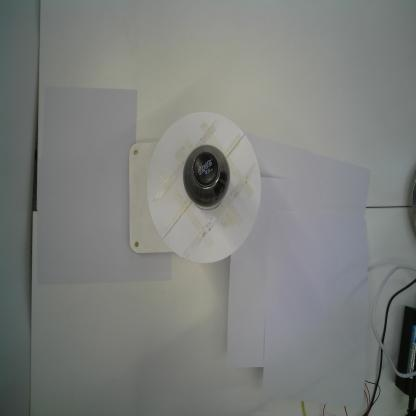Drink: (182, 144, 230, 210)
